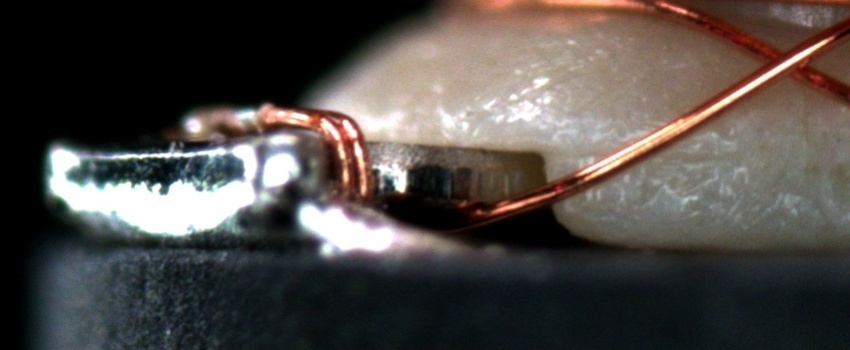CL: (737, 33, 828, 90)
DL: (576, 123, 743, 181)
TE: (179, 97, 376, 209)
